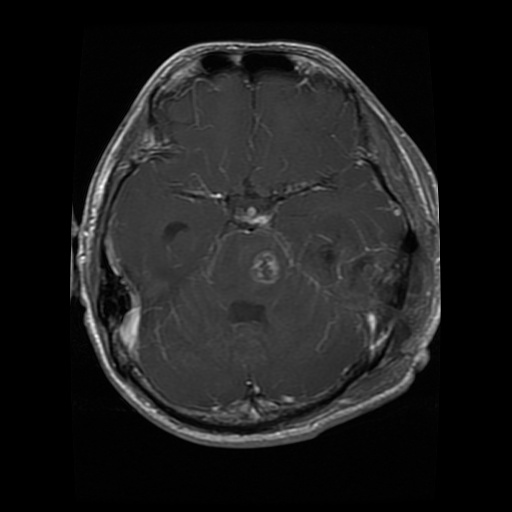glioma: (247, 249, 279, 285)
